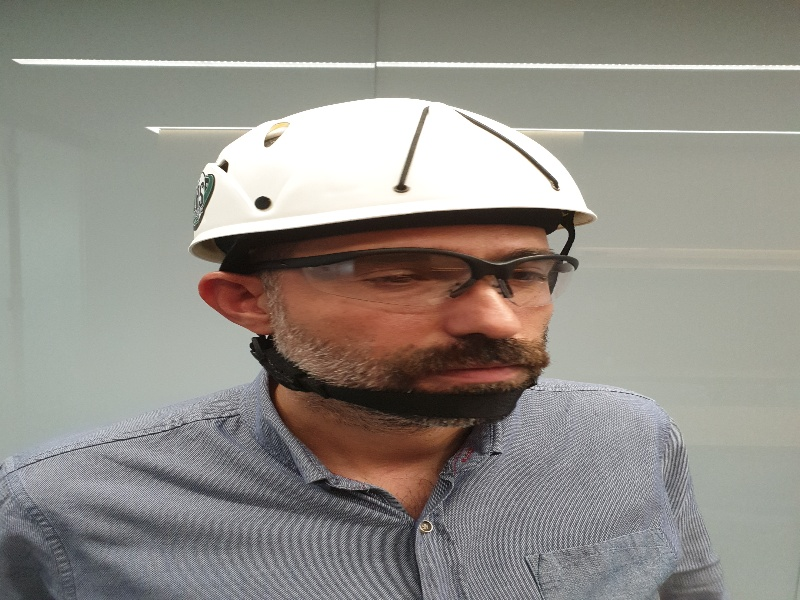Baret: (191, 99, 595, 234)
Gozluk: (242, 249, 581, 311)
